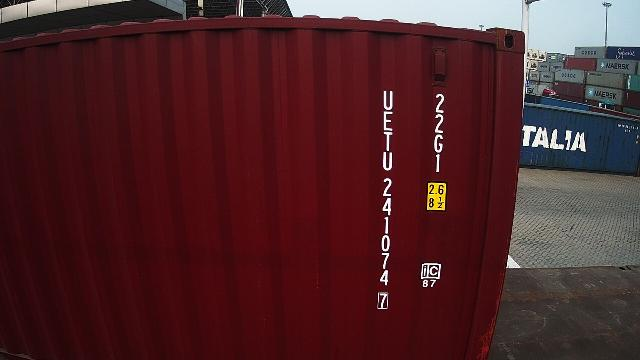0: (382, 234, 391, 252)
1: (384, 216, 390, 234)
2: (383, 177, 393, 197)
4: (382, 197, 392, 216), (379, 270, 389, 286)
7: (380, 252, 390, 270), (378, 292, 388, 310)
E: (383, 111, 393, 131)
T: (383, 131, 393, 151)
U: (383, 151, 393, 171), (383, 90, 393, 110)
